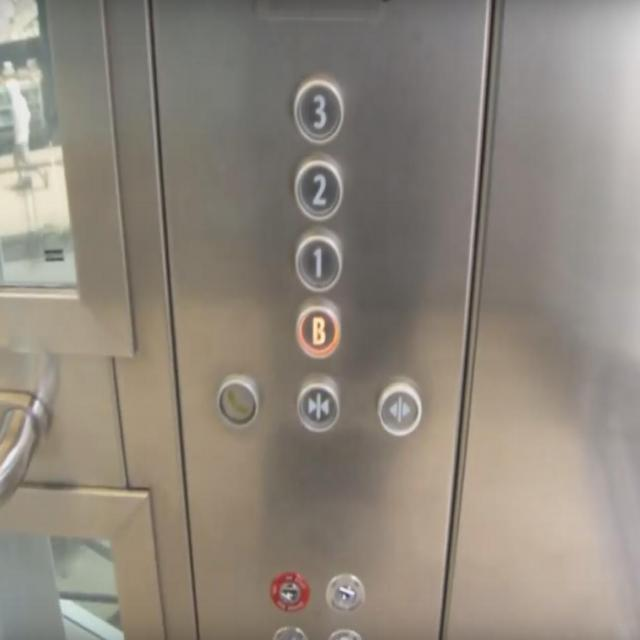1: (290, 226, 346, 296)
2: (290, 152, 346, 224)
3: (290, 72, 346, 148)
B: (290, 296, 346, 366)
call: (214, 371, 261, 434)
close: (295, 374, 342, 438)
keyhole: (323, 568, 368, 618), (267, 566, 312, 614)
open: (376, 378, 423, 441)
